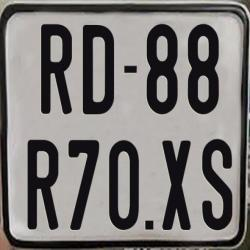0: (108, 140, 140, 233)
7: (67, 140, 99, 234)
8: (187, 22, 221, 112), (146, 24, 178, 116)
D: (82, 25, 114, 115)
R: (27, 138, 60, 229), (41, 23, 73, 114)
S: (202, 139, 234, 230)
X: (161, 139, 193, 230)
